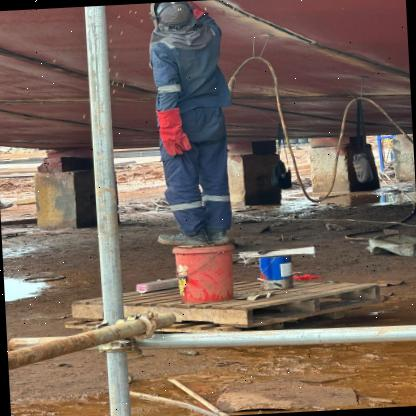bota: (156, 225, 209, 250), (196, 223, 235, 247)
